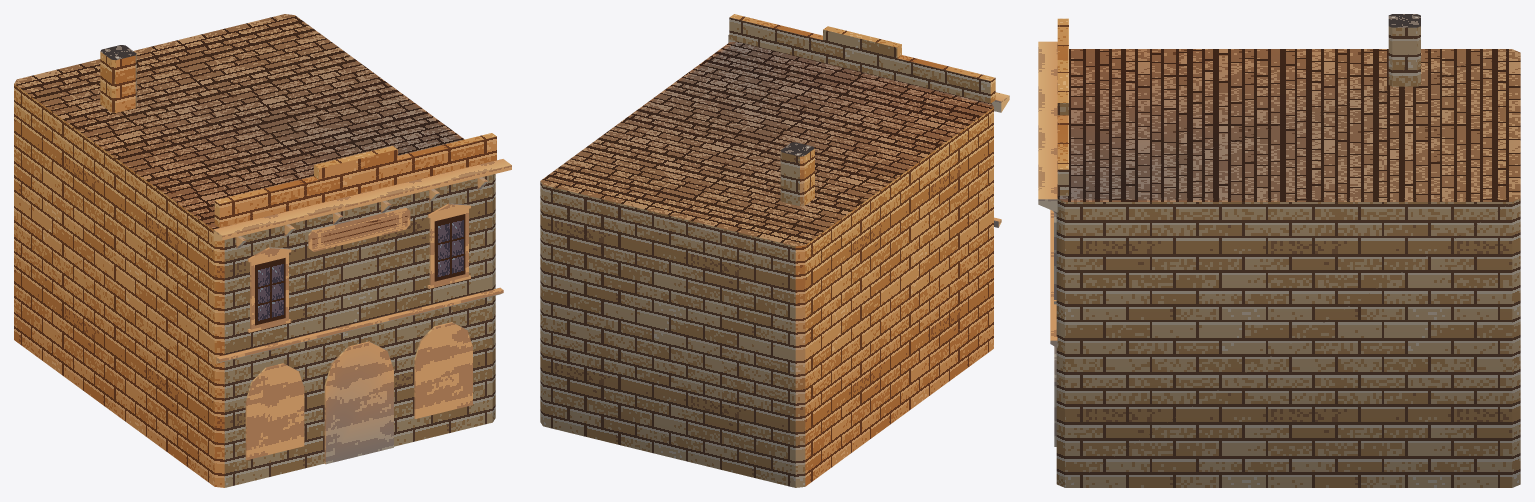
Rendered from wtown.bank.glb.
3 renders of one model, left to right at view 1: azimuth 30°, elevation 25°; view 2: azimuth 150°, elevation 25°; view 3: azimuth 270°, elevation 25°, orthographic. The views are drawn at different scales.
Parts seen in each view (by area): view 1: kit_body, kit_trim, kit_windows, kit_card_panes, kit_chimney; view 2: kit_body, kit_trim, kit_chimney; view 3: kit_body, kit_trim, kit_chimney, kit_windows.
Boxes of the visible parts, x1=… form: kit_body: x1=14, y1=14, x2=495, y2=487; kit_trim: x1=213, y1=133, x2=511, y2=464; kit_windows: x1=245, y1=203, x2=472, y2=459; kit_card_panes: x1=255, y1=210, x2=465, y2=325; kit_chimney: x1=100, y1=45, x2=136, y2=112; kit_body: x1=540, y1=41, x2=993, y2=487; kit_trim: x1=728, y1=14, x2=1009, y2=227; kit_chimney: x1=780, y1=142, x2=814, y2=206; kit_body: x1=1056, y1=49, x2=1520, y2=487; kit_trim: x1=1038, y1=18, x2=1068, y2=347; kit_chimney: x1=1388, y1=14, x2=1420, y2=86; kit_windows: x1=1054, y1=212, x2=1056, y2=446.
Size of the model in its own units: 8.04 by 8.2 by 10.4.
Materials: 7 (7 with a texture image).
